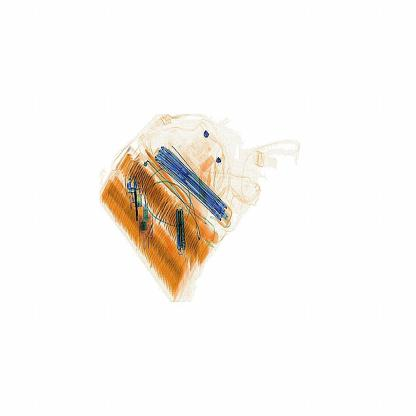scissors: (176, 207, 188, 253)
